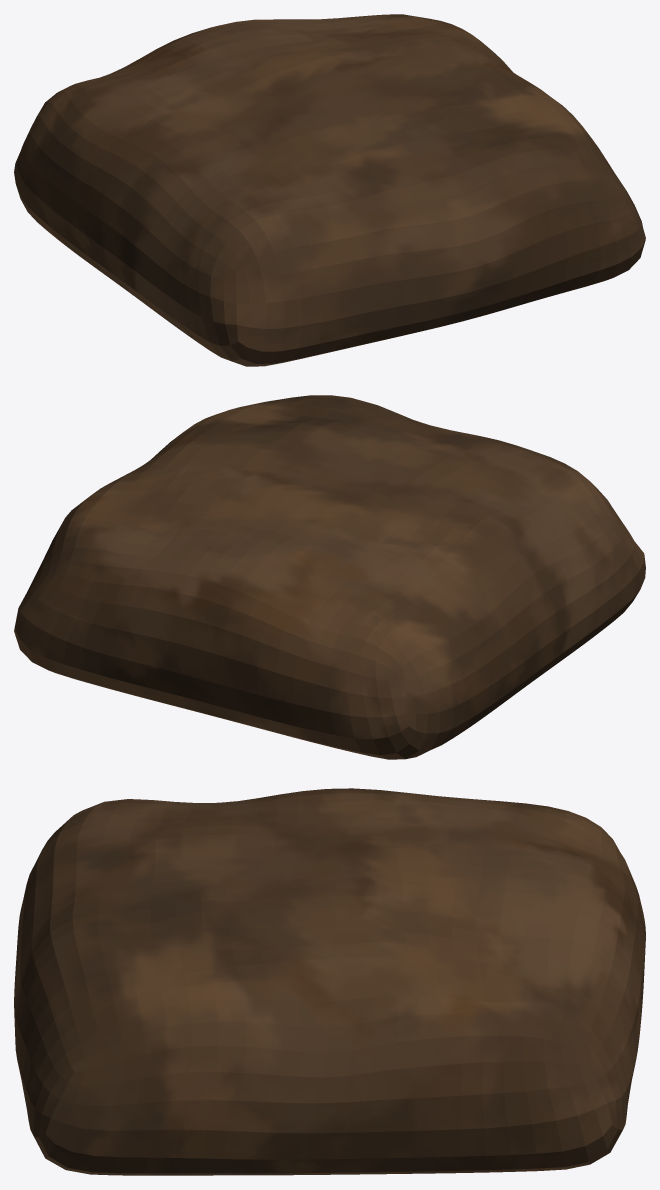
The model's file is SoilPlaсe.fbx.
3 views of the same model, one above another, from view 1: azimuth 30°, elevation 25°; view 2: azimuth 150°, elevation 25°; view 3: azimuth 270°, elevation 25° (orthographic). The views are drawn at different scales.
Parts seen in each view (by area): view 1: Cube; view 2: Cube; view 3: Cube.
Boxes of the visible parts, left/top/right/bottom form: Cube: left=14, top=14, right=645, bottom=366; Cube: left=14, top=395, right=645, bottom=759; Cube: left=14, top=788, right=645, bottom=1175.
Size of the model in its own units: 297 by 110 by 300.
